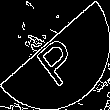P_NW: (27, 24, 83, 86)
